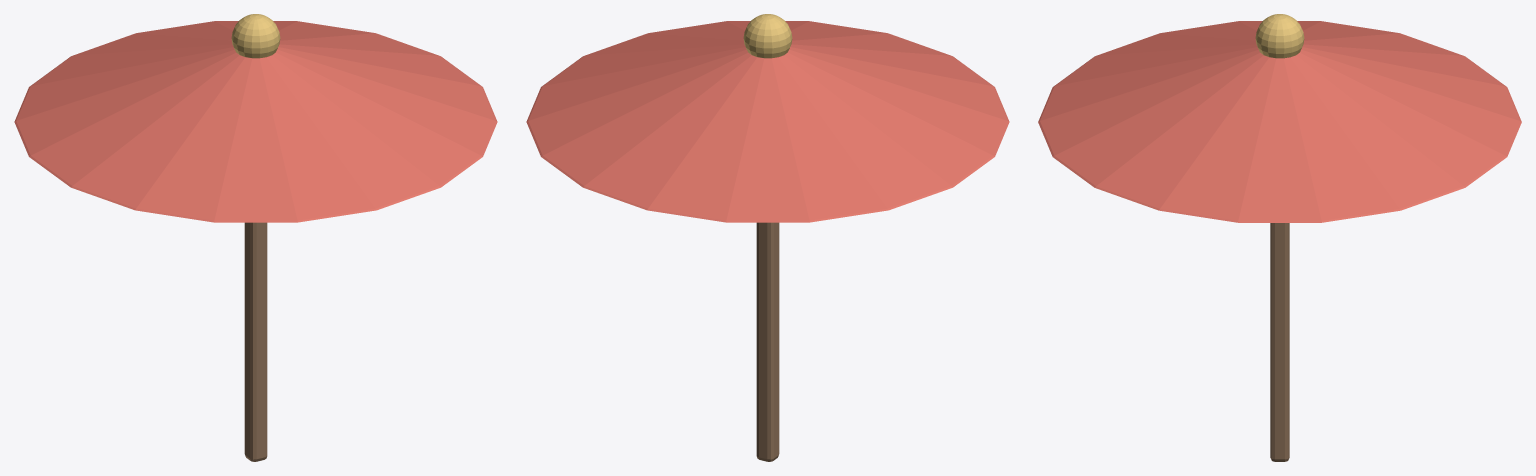
File: umbrella.glb
3 views of the same model, side by side, from view 1: azimuth 30°, elevation 25°; view 2: azimuth 150°, elevation 25°; view 3: azimuth 270°, elevation 25° (orthographic).
Parts seen in each view (by area): view 1: Umbrella; view 2: Umbrella; view 3: Umbrella.
Part boxes in pixels (bbox=[...]): Umbrella: bbox=[14, 14, 497, 461]; Umbrella: bbox=[526, 14, 1009, 461]; Umbrella: bbox=[1038, 14, 1521, 461].
Bounding box in the file's own units: 0.9734 × 1 × 0.9885.
